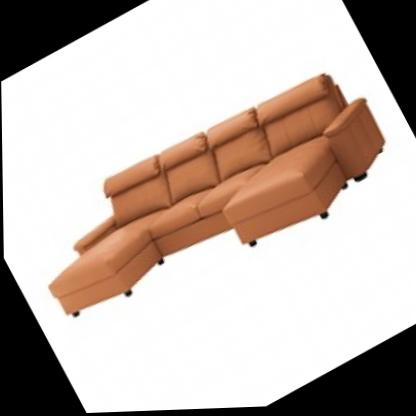Sofa: (0, 27, 416, 373)
